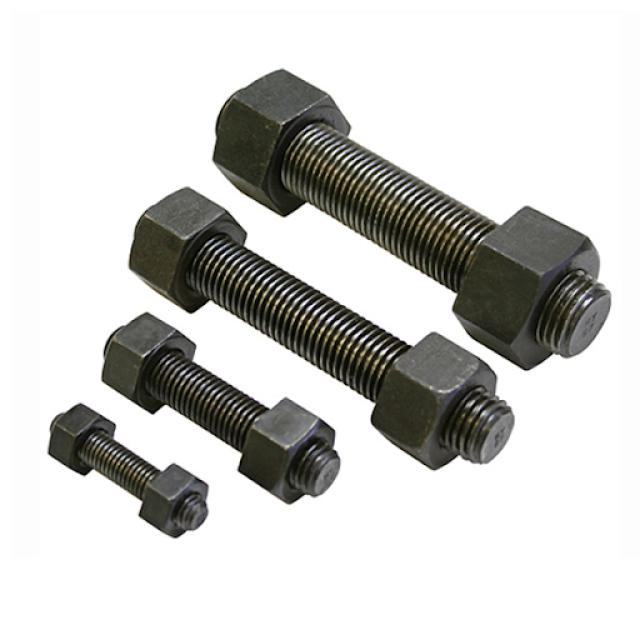Logam: (82, 175, 528, 507), (204, 30, 640, 351)
